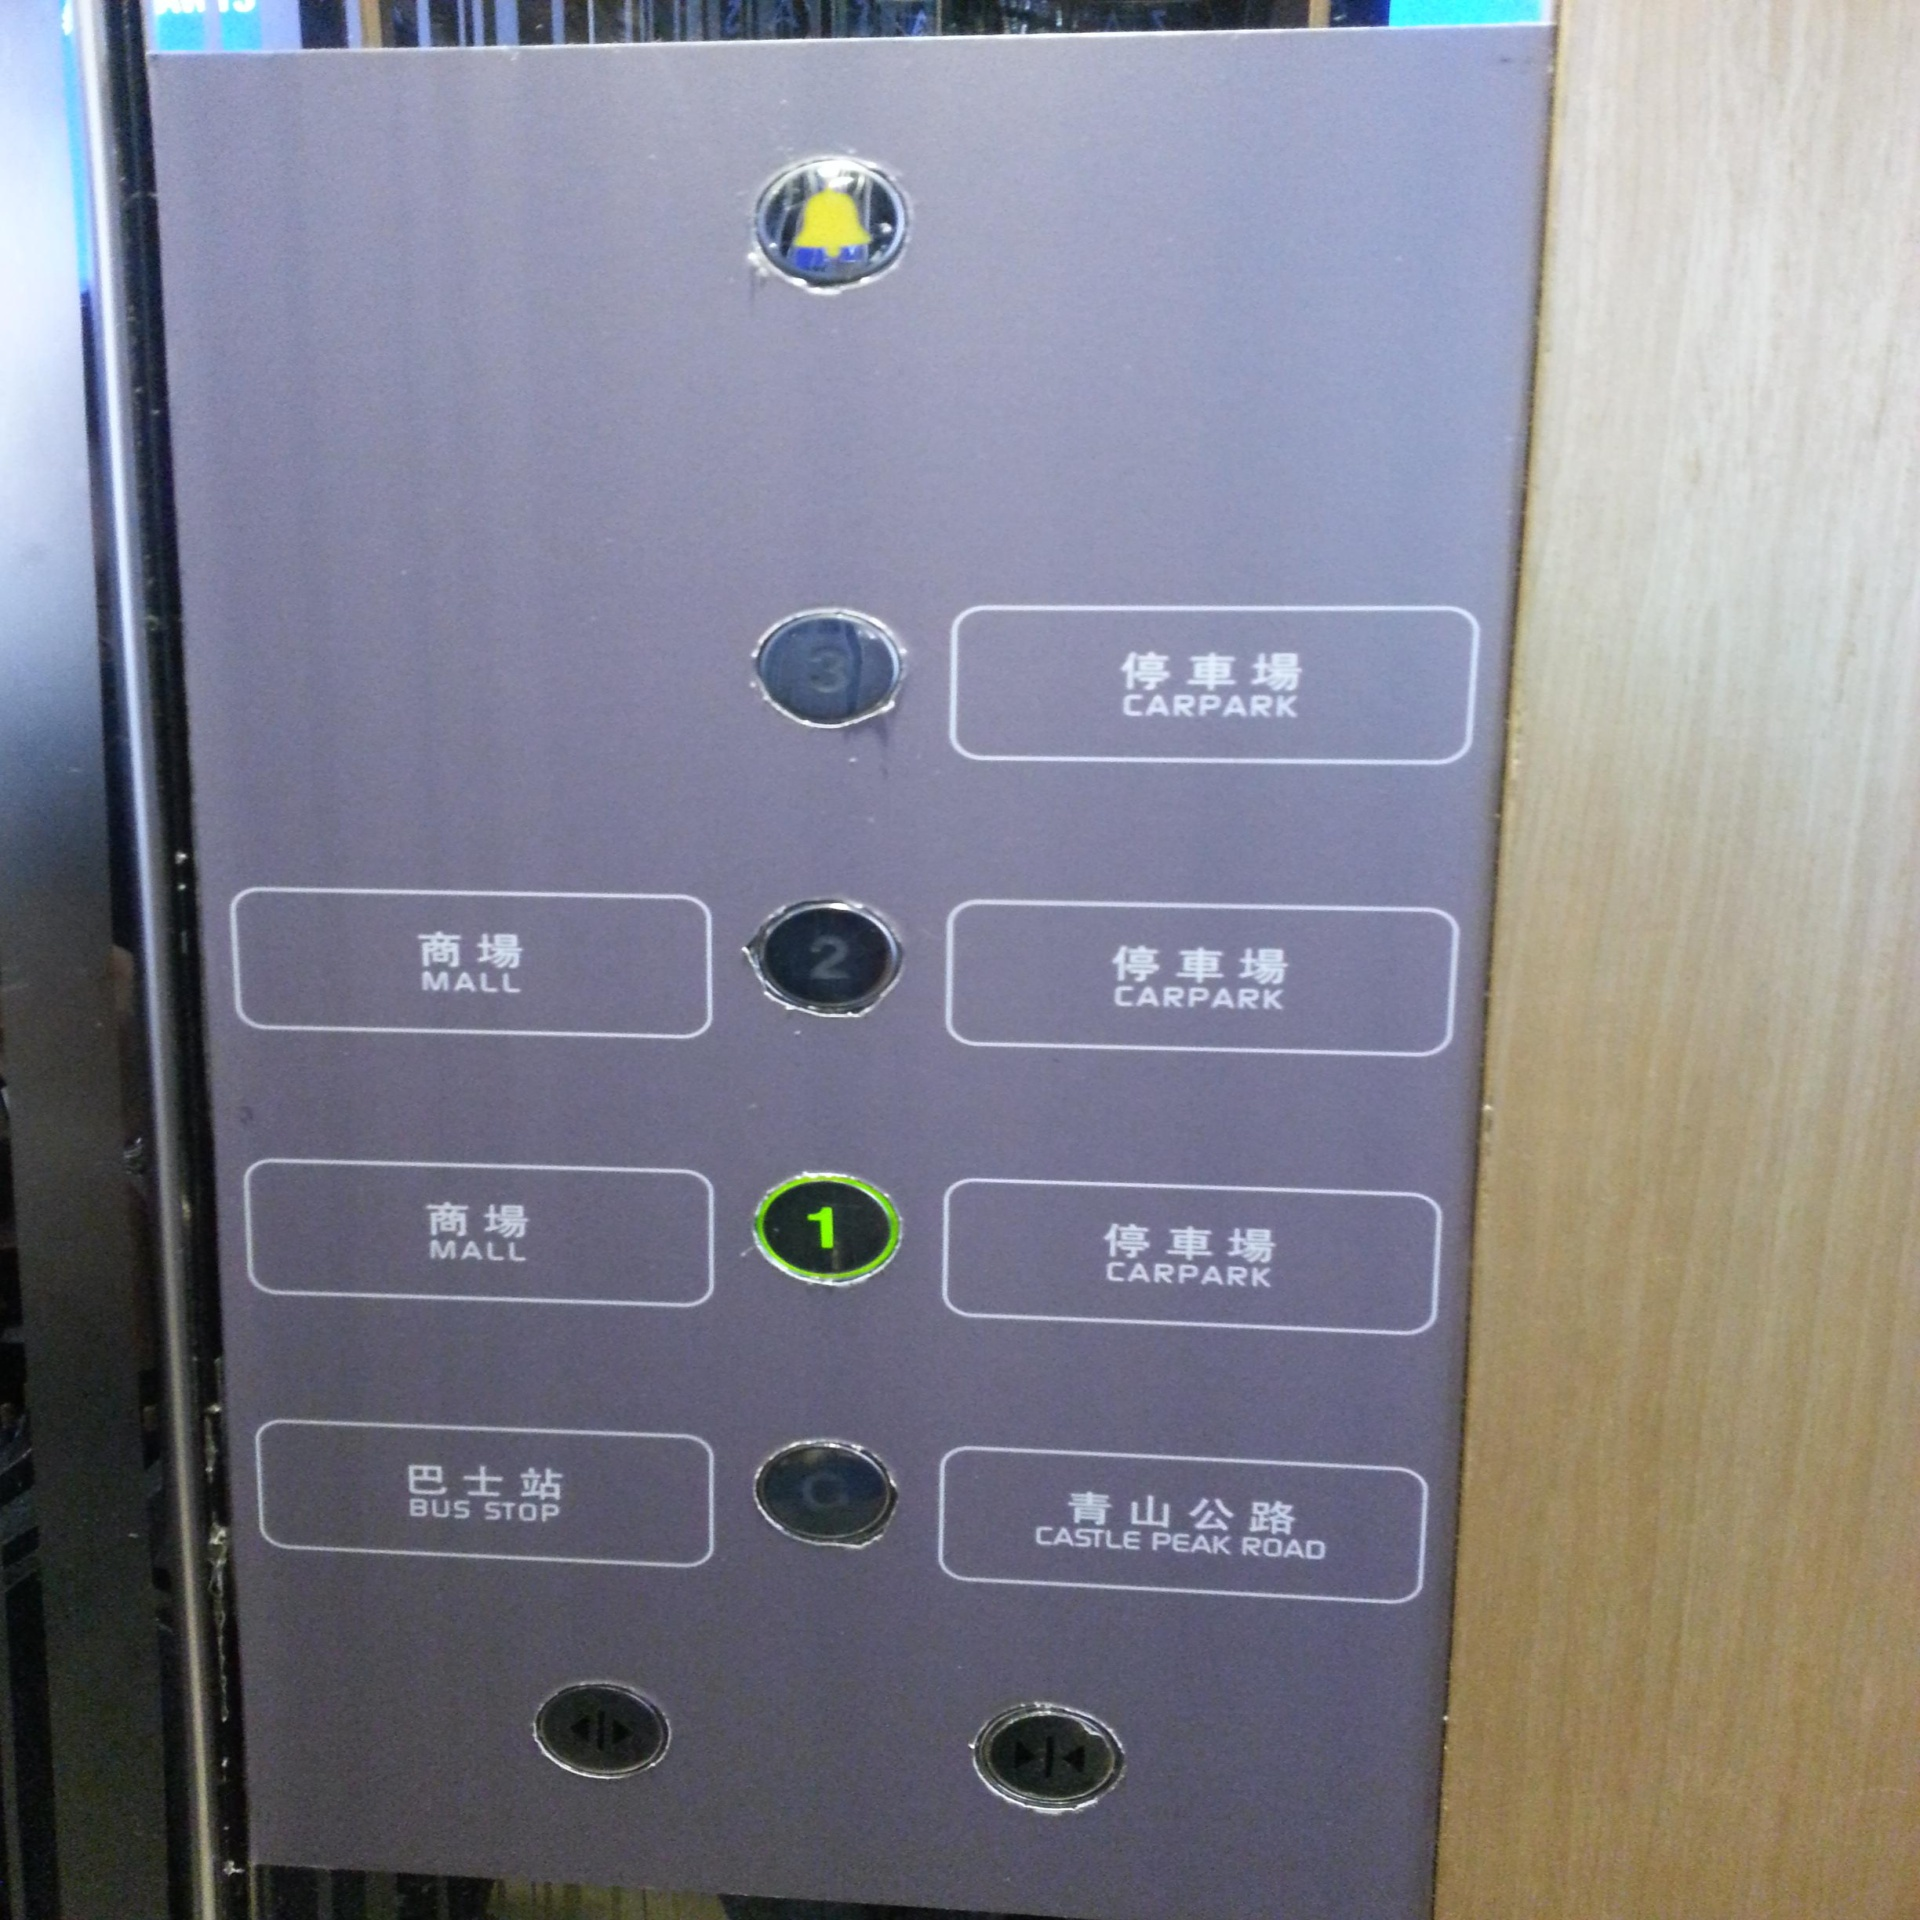1: (747, 1162, 907, 1292)
2: (738, 891, 913, 1023)
3: (751, 601, 907, 731)
G: (749, 1436, 898, 1549)
alarm: (747, 151, 913, 299)
close: (972, 1698, 1131, 1813)
open: (533, 1681, 670, 1779)
